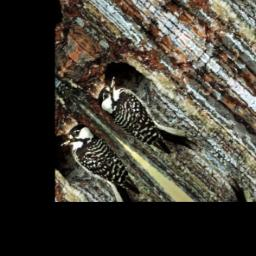Woodpecker: (92, 67, 200, 176)
